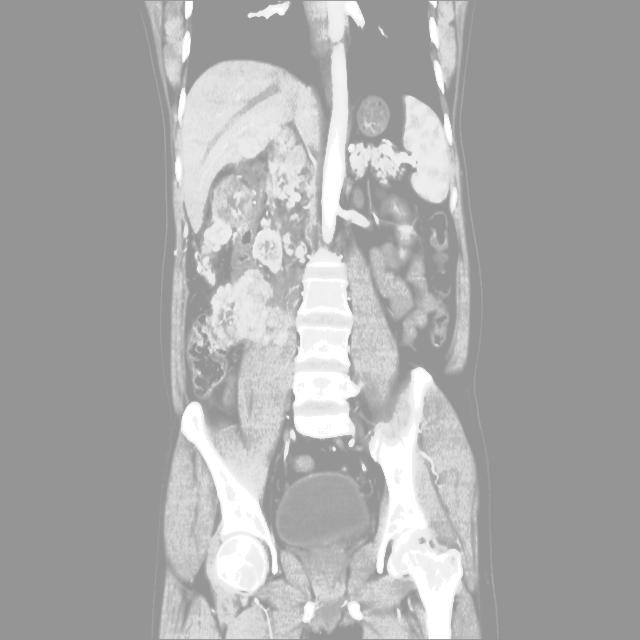TUMOR: (160, 222, 492, 511)
